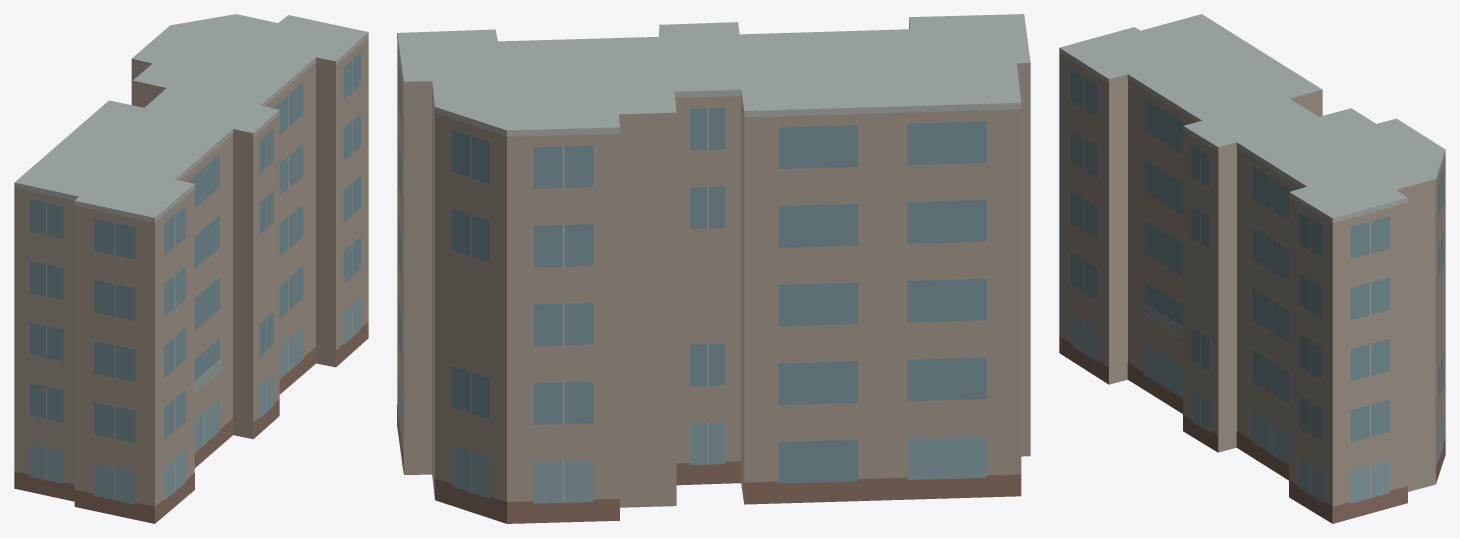
The model's file is survey-upis-32693071.glb.
3 views of the same model, side by side, from view 1: azimuth 30°, elevation 25°; view 2: azimuth 150°, elevation 25°; view 3: azimuth 270°, elevation 25° (orthographic). The views are drawn at different scales.
Parts seen in each view (by area): view 1: survey-upis-32693071.tmp; view 2: survey-upis-32693071.tmp; view 3: survey-upis-32693071.tmp.
Boxes of the visible parts, box(x1,y1,x2,y2) form: survey-upis-32693071.tmp: box(14, 14, 368, 523); survey-upis-32693071.tmp: box(397, 14, 1030, 523); survey-upis-32693071.tmp: box(1059, 14, 1445, 523).
Size of the model in its own units: 21.84 by 15.2 by 17.42.
